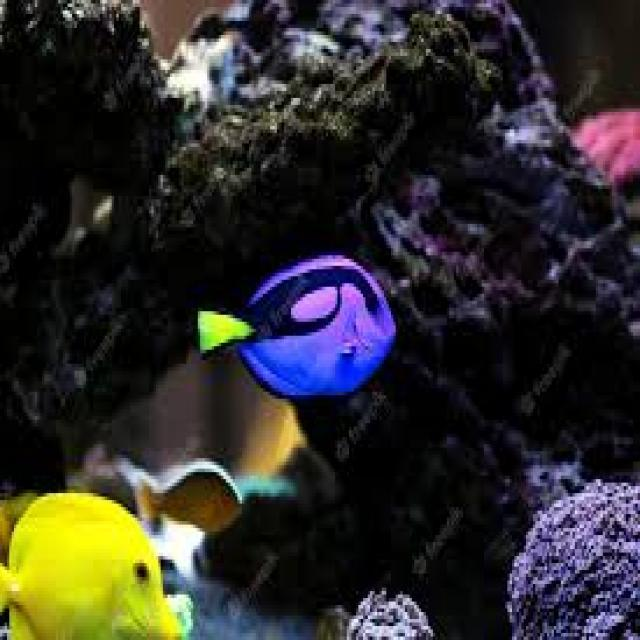BlueTang: (199, 258, 396, 400)
